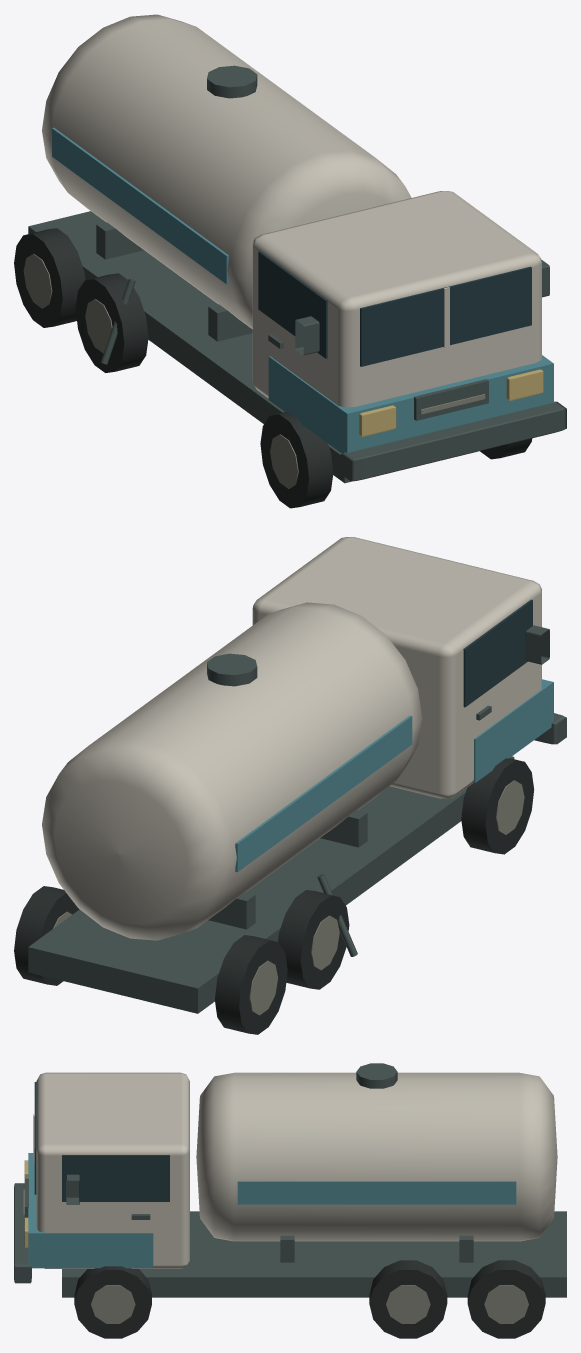
File: wayit.glb
3 renders of one model, top to bottom at view 1: azimuth 30°, elevation 25°; view 2: azimuth 150°, elevation 25°; view 3: azimuth 270°, elevation 25°, orthographic. The views are drawn at different scales.
Visible parts, largest first — view 1: wayit; view 2: wayit; view 3: wayit.
Boxes of the visible parts, x1,y1,x2,y2 form: wayit: [14, 14, 566, 508]; wayit: [14, 537, 566, 1034]; wayit: [14, 1063, 566, 1338].
Size of the model in its own units: 2.59 by 2.75 by 6.19.
